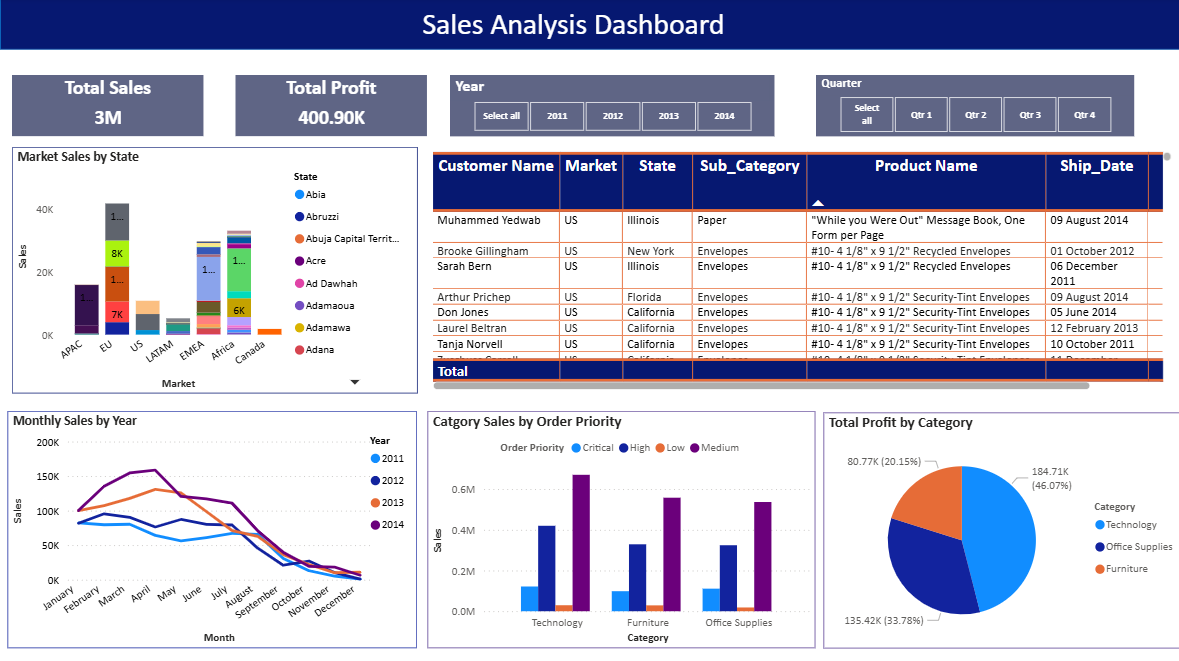

What the dashboard file says about the page in this screenshot:
{"tool":"powerbi","page":{"name":"SalesAnalysis-Dashboard","canvas":[1280,720],"ordinal":0},"visuals":[{"type":"cardVisual","fields":{"Data":["Sum(Orders.sales)"]},"box":[6.6,62.3,167,80],"z":0},{"type":"shape","box":[0,0,1280.2,57],"z":1000},{"type":"textbox","title":"Sales Analysis Dashboard","box":[372.1,9.8,493.4,37.7],"z":2000},{"type":"textbox","title":"Sales Analysis Dashboard","box":[372.1,9.3,493,38.4],"z":3000},{"type":"cardVisual","fields":{"Data":["Sum(Orders.profit)"]},"box":[171.6,63.9,167,80],"z":4000},{"type":"cardVisual","fields":{"Data":["Sum(Orders.quantity)"]},"box":[339.3,63.9,167.2,80.3],"z":5000},{"type":"slicer","fields":{"Values":["Orders.order_date.Variation.Date Hierarchy.Year"]},"box":[493.4,68.9,403.3,73.8],"z":6000},{"type":"slicer","fields":{"Values":["Orders.order_date.Variation.Date Hierarchy.Quarter"]},"box":[877,70.5,350.8,72.1],"z":7000},{"type":"columnChart","title":"Market Sales by State","fields":{"Category":["Orders.market"],"Y":["Sum(Orders.sales)"],"Series":["Orders.state"]},"box":[16.4,168.9,437,266],"z":8000},{"type":"tableEx","fields":{"Values":["Orders.customer_name","Orders.market","Orders.state","Orders.sub_category","Orders.product_name","Orders.ship_date","Sum(Orders.sales)"]},"box":[506.6,168.9,741,265.6],"z":9000},{"type":"lineChart","title":"Monthly Sales by Year","fields":{"Category":["Orders.order_date.Variation.Date Hierarchy.Month"],"Y":["Sum(Orders.sales)"],"Series":["Orders.order_date.Variation.Date Hierarchy.Year"]},"box":[16.4,444.3,437.7,259],"z":10000},{"type":"clusteredColumnChart","title":"Category Sales by Order Priority","fields":{"Category":["Orders.category"],"Y":["Sum(Orders.sales)"],"Series":["Orders.order_priority"]},"box":[506.6,444.3,359,259],"z":11000},{"type":"pieChart","title":"Total Profit by Category","fields":{"Y":["Sum(Orders.profit)"],"Category":["Orders.category"]},"box":[872.1,444.3,362.3,259],"z":12000}]}

Visuals, with their boxes in screenshot pixels (x1, y1, x2, y2), scaled from the page's 1280x720 canvas onto the 1179x661 screenshot:
cardVisual - Sum(Orders.sales): 6,57,160,131
shape: 0,0,1178,52
"Sales Analysis Dashboard" textbox: 343,9,797,44
"Sales Analysis Dashboard" textbox: 343,9,797,44
cardVisual - Sum(Orders.profit): 158,59,312,132
cardVisual - Sum(Orders.quantity): 313,59,467,132
slicer - Orders.order_date.Variation.Date Hierarchy.Year: 454,63,826,131
slicer - Orders.order_date.Variation.Date Hierarchy.Quarter: 808,65,1131,131
"Market Sales by State" columnChart: 15,155,418,399
tableEx - Orders.customer_name x Orders.market: 467,155,1149,399
"Monthly Sales by Year" lineChart: 15,408,418,646
"Category Sales by Order Priority" clusteredColumnChart: 467,408,797,646
"Total Profit by Category" pieChart: 803,408,1137,646
